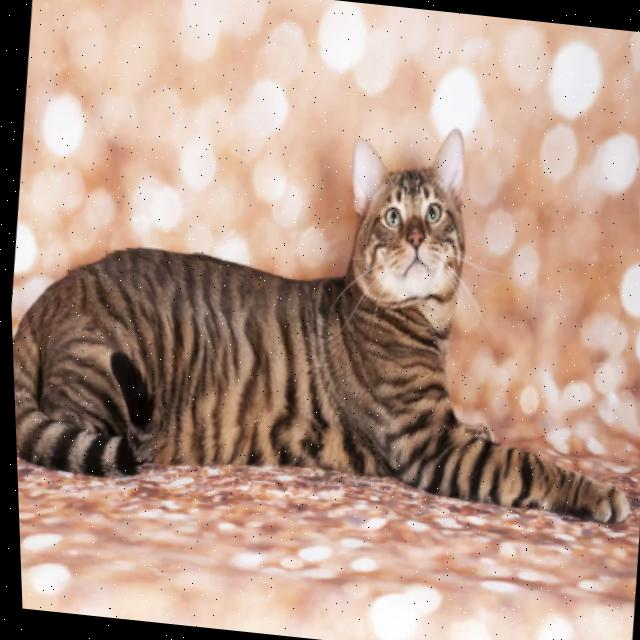Toyger: (2, 78, 640, 535)
